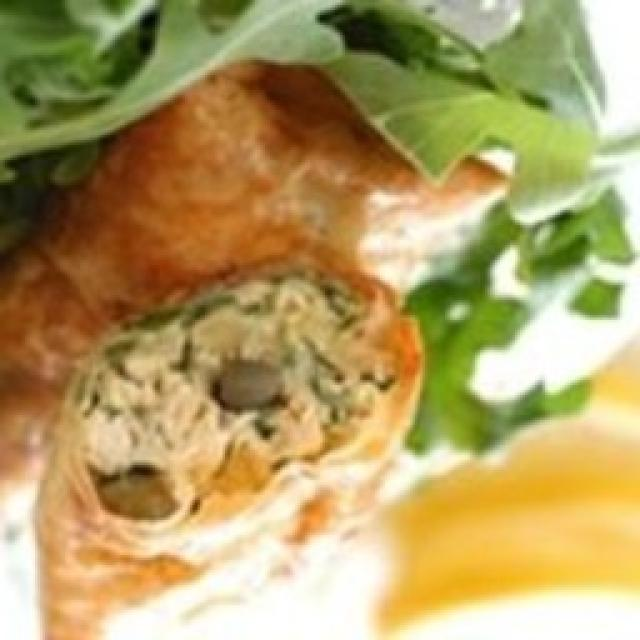Brik: (0, 60, 510, 640)
